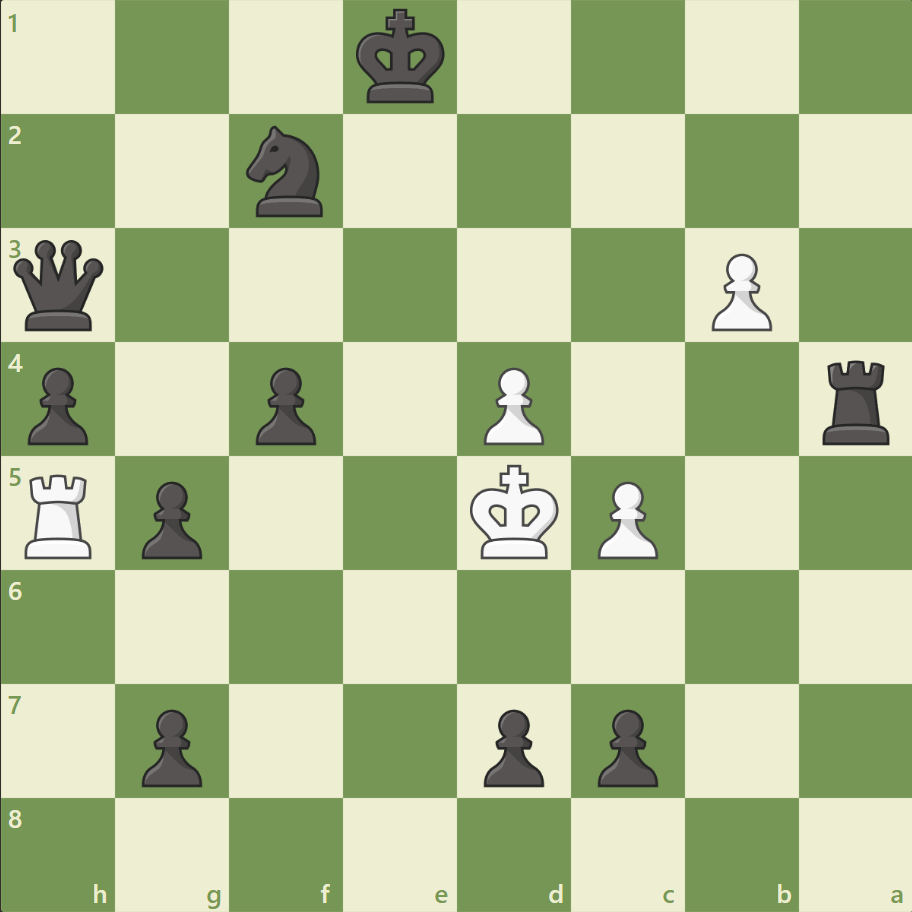K: (465, 458, 565, 566)
P: (474, 359, 549, 450), (701, 246, 776, 337), (588, 473, 662, 564)
R: (19, 466, 102, 563)
k: (351, 4, 451, 112)
n: (238, 121, 335, 223)
p: (474, 700, 549, 791), (133, 700, 208, 791), (133, 473, 208, 564), (247, 359, 322, 450), (20, 359, 95, 450), (588, 700, 662, 791)
q: (10, 236, 109, 335)
r: (814, 352, 897, 449)
